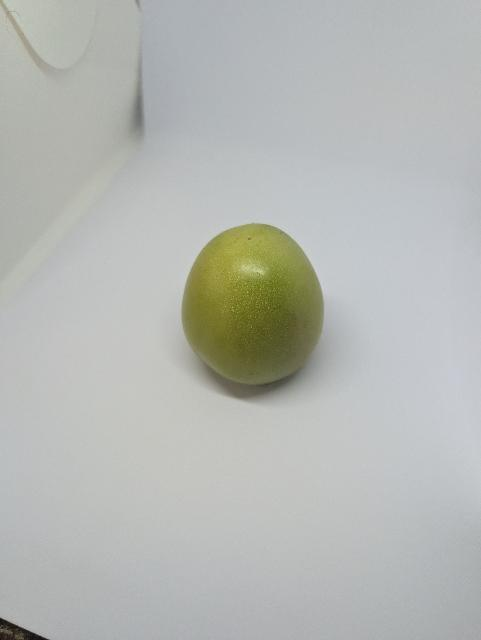green: (174, 209, 333, 398)
